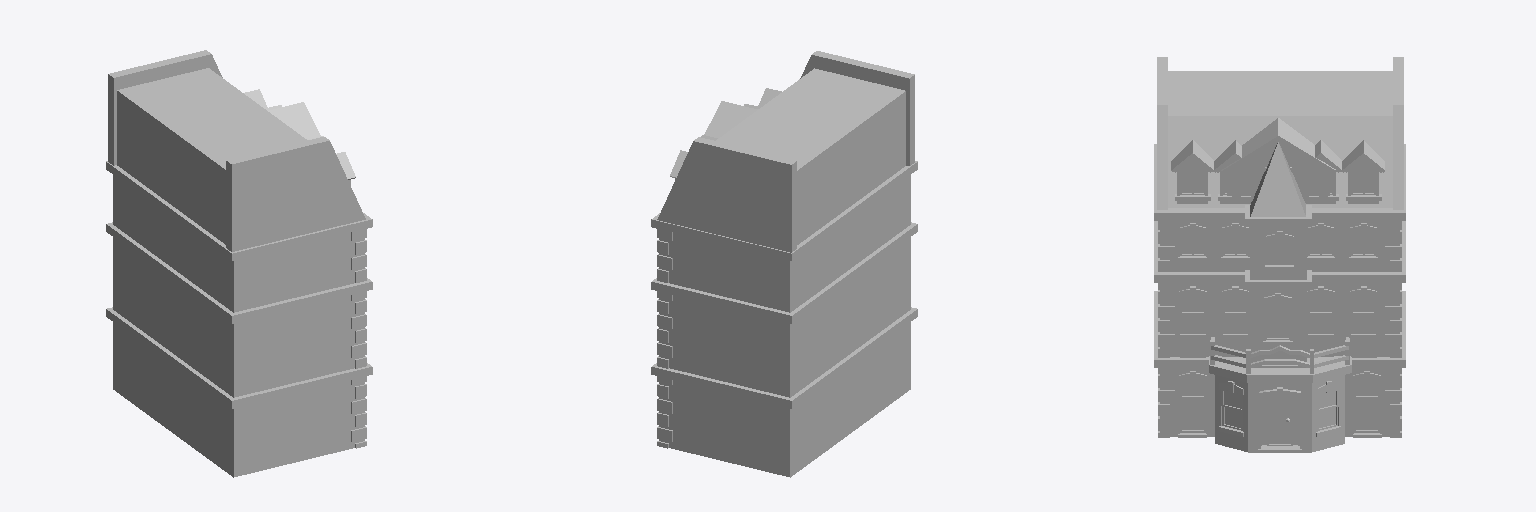
The model's file is House3.obj.
3 renders of one model, left to right at view 1: azimuth 30°, elevation 25°; view 2: azimuth 150°, elevation 25°; view 3: azimuth 270°, elevation 25°, orthographic.
Parts seen in each view (by area): view 1: House3:Cube_316; view 2: House3:Cube_316; view 3: House3:Cube_316.
Boxes of the visible parts, x1,y1,x2,y2 form: House3:Cube_316: [106, 50, 372, 477]; House3:Cube_316: [651, 51, 917, 477]; House3:Cube_316: [1154, 57, 1405, 452].
Bounding box in the file's own units: 8.09 × 14 × 10.14.